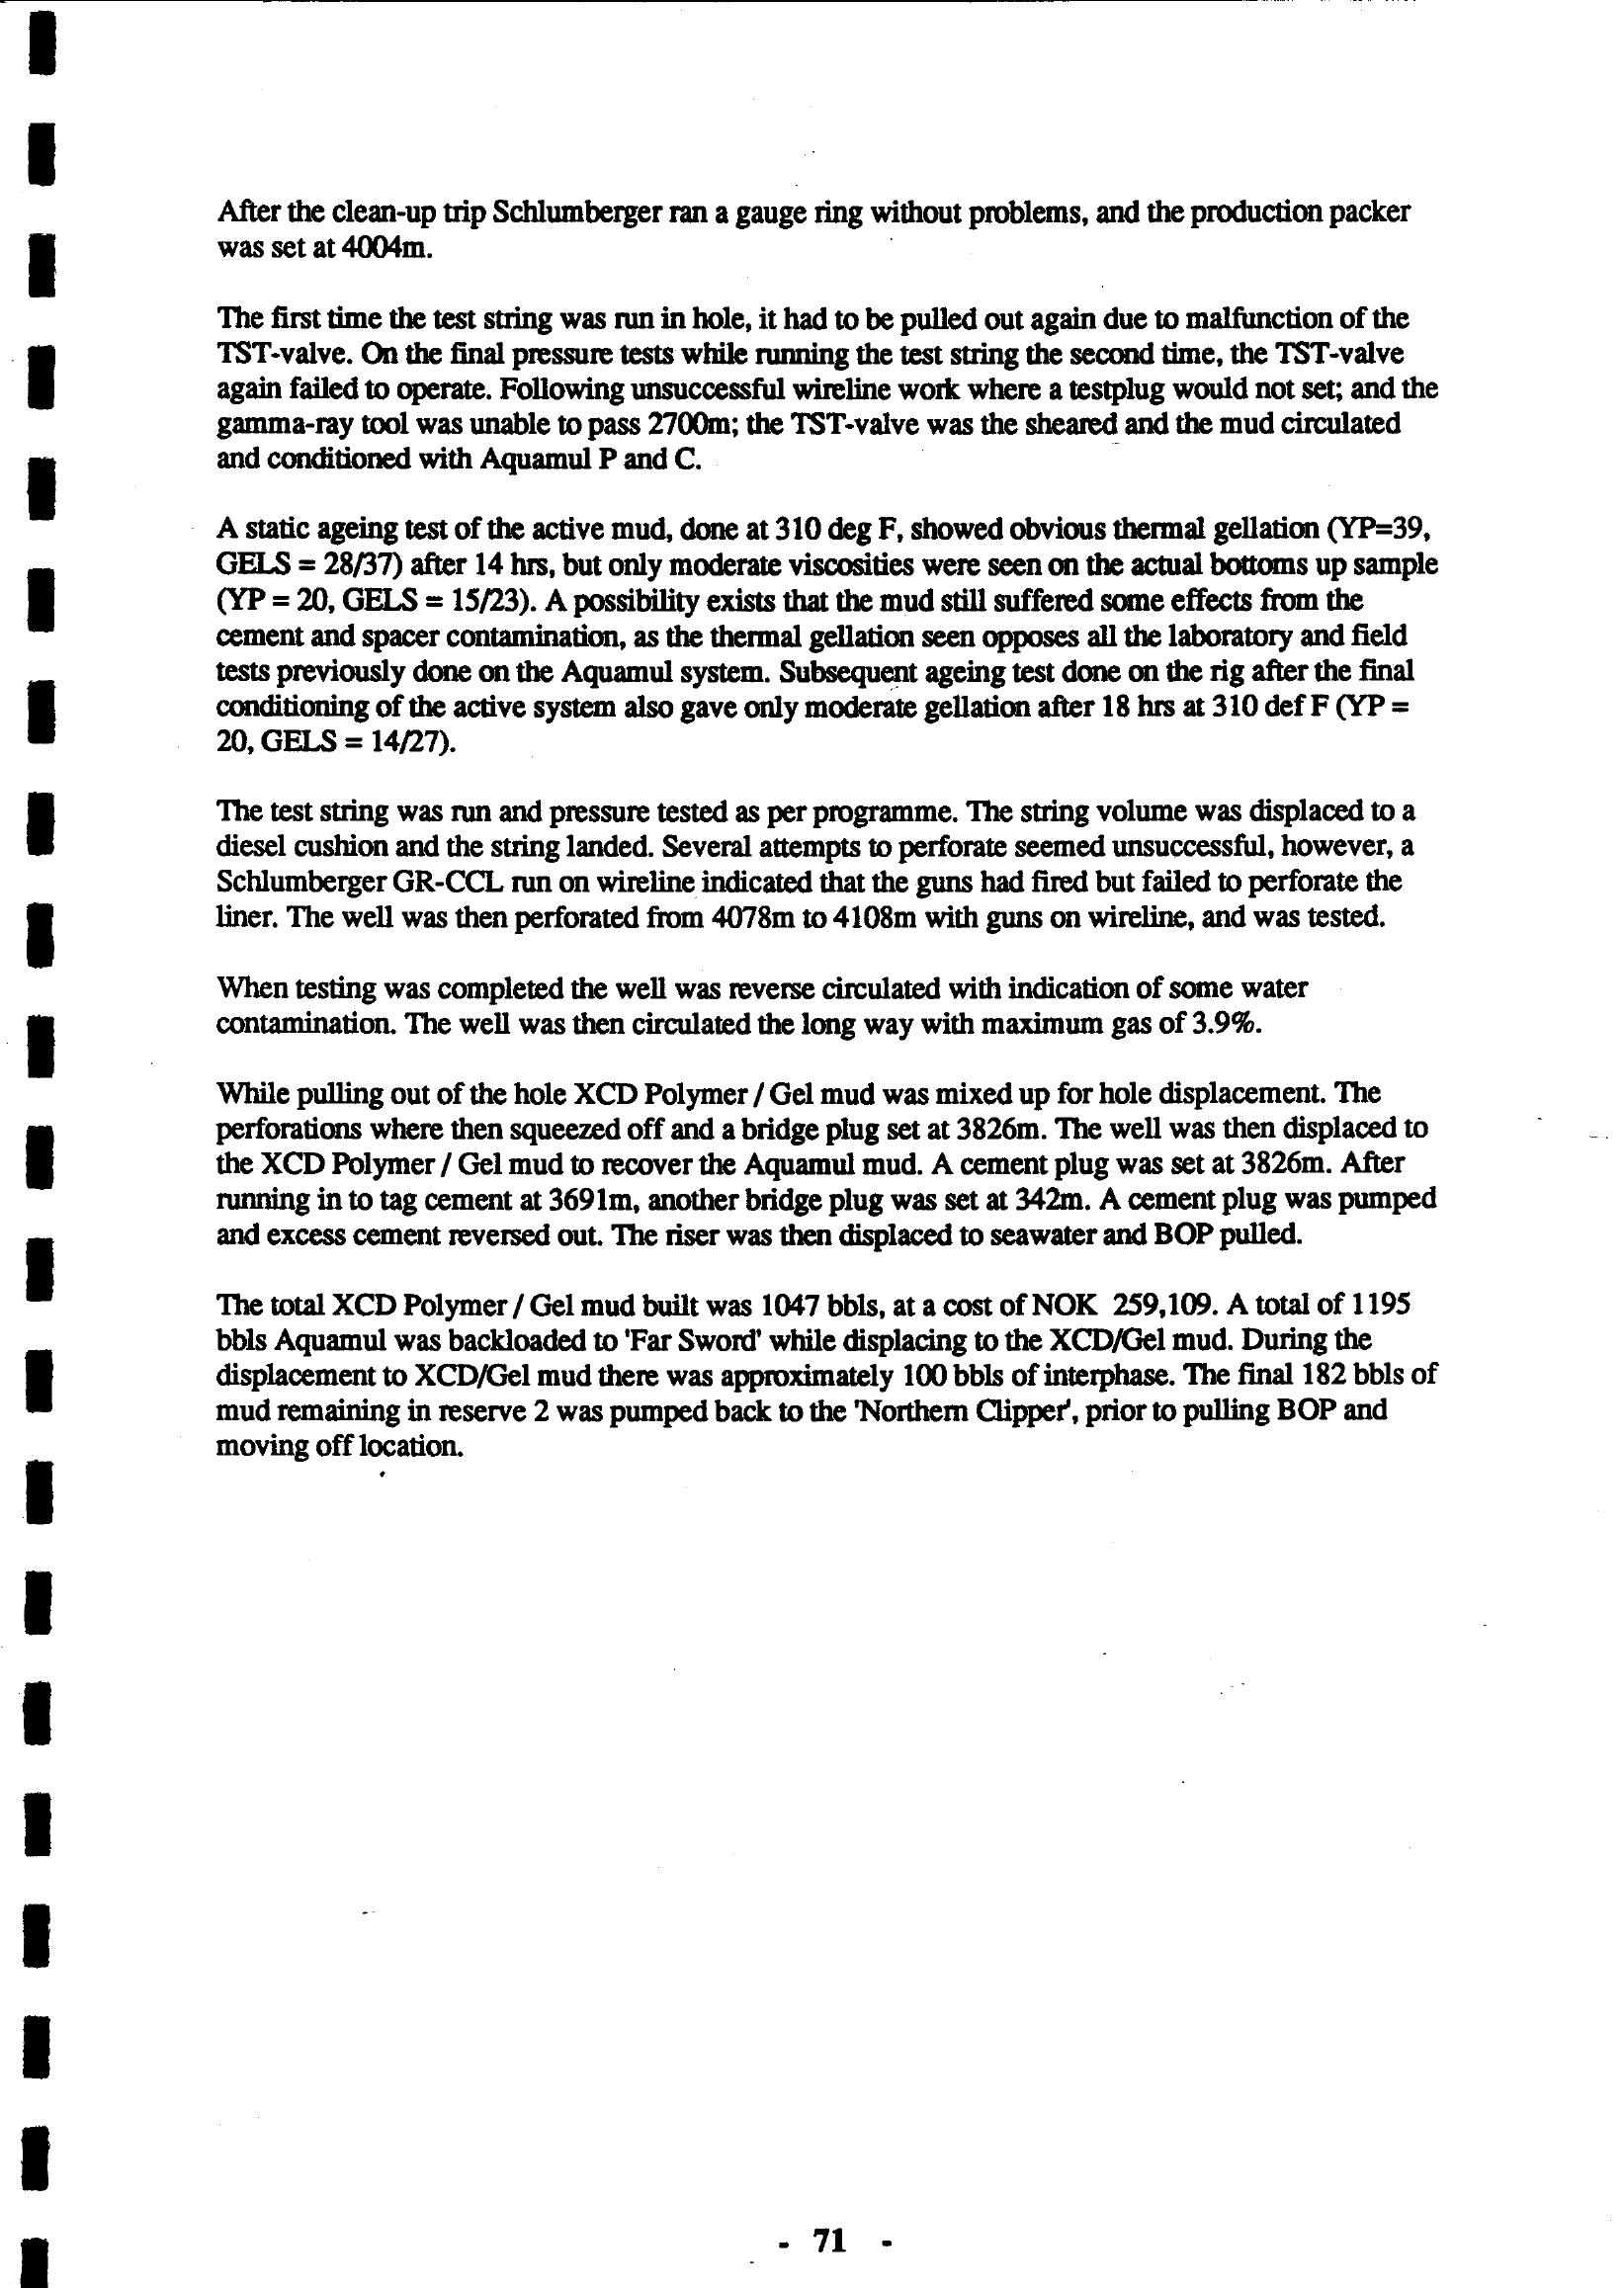text: (179, 179, 1482, 1494)
